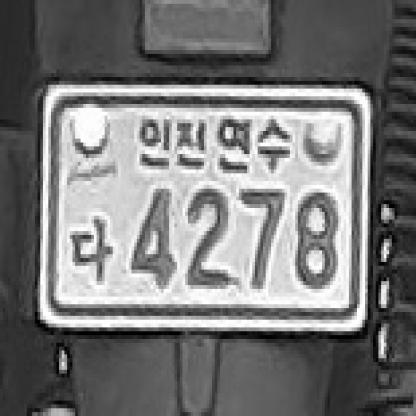bnum: (34, 74, 376, 341)
